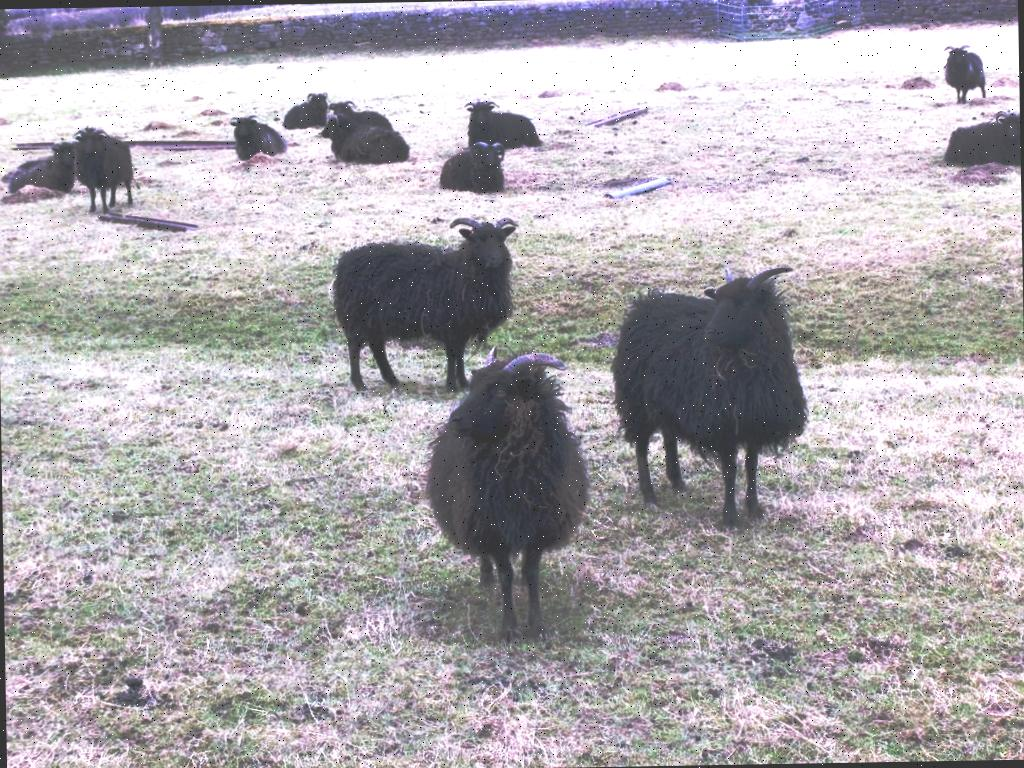Sheep: (609, 256, 815, 530), (425, 342, 593, 644), (320, 220, 554, 385), (72, 126, 140, 216), (318, 112, 408, 168), (942, 104, 1020, 167), (466, 96, 544, 150), (436, 136, 508, 194), (7, 137, 76, 195), (937, 41, 988, 105), (224, 110, 284, 161), (327, 98, 390, 136), (277, 90, 333, 127)
